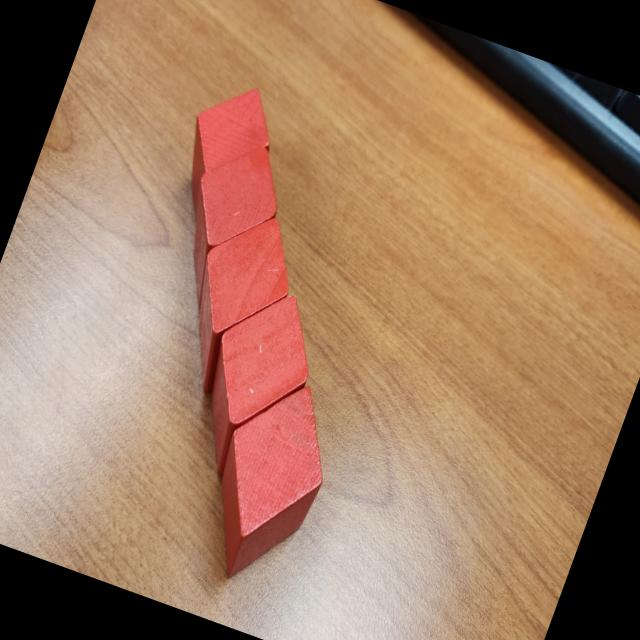red: (182, 366, 352, 598), (175, 276, 332, 495), (161, 198, 311, 410), (158, 128, 300, 326), (163, 71, 290, 236)
